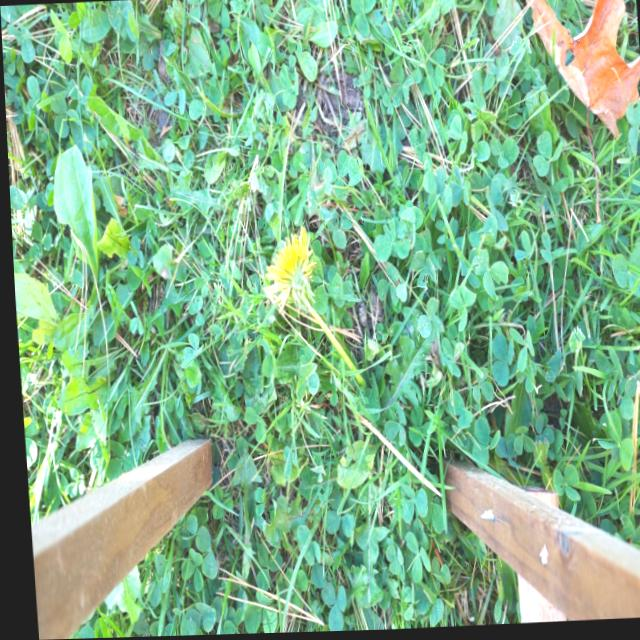base: (342, 362, 366, 398)
